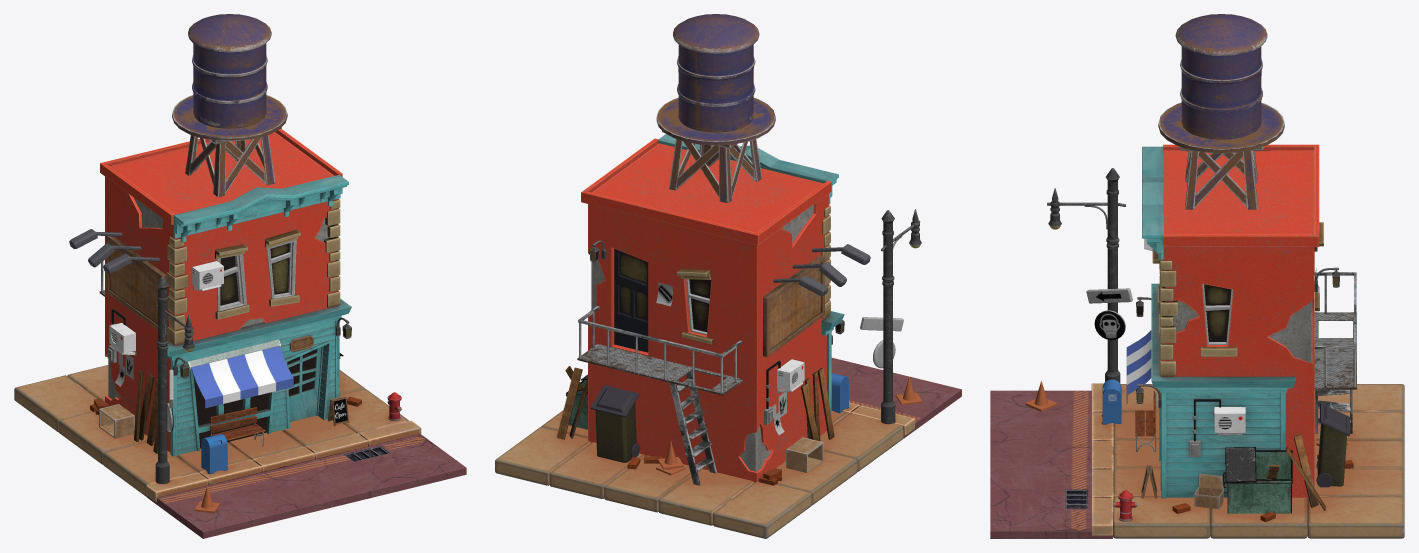
Rendered from cafe.glb.
3 views of the same model, side by side, from view 1: azimuth 30°, elevation 25°; view 2: azimuth 150°, elevation 25°; view 3: azimuth 270°, elevation 25° (orthographic). The views are drawn at different scales.
Parts seen in each view (by area): view 1: wall_03_low, ground_01_low, barell_low, ground_03_low, ground_02_low, wall_01_low, tent_low, roof_01_low, wall_02_low, sign_04_low, railing_02_low, streetlight_low (+17 smaller); view 2: wall_03_low, ground_03_low, wall_02_low, barell_low, roof_03_low, ground_01_low, sign_04_low, door_02_low, trashcan_02_low, streetlight_low, balcon_01_low, woodboards_low (+10 smaller); view 3: wall_03_low, ground_03_low, barell_low, ground_01_low, wall_01_low, trashcan_01_low, railing_02_low, roof_03_low, ground_02_low, streetlight_low, balcon_01_low, wall_02_low (+15 smaller).
Part boxes in pixels (left/top/right/bottom): wall_03_low: left=105, top=132, right=337, bottom=345; ground_01_low: left=147, top=434, right=466, bottom=538; barell_low: left=172, top=14, right=287, bottom=197; ground_03_low: left=14, top=365, right=408, bottom=496; ground_02_low: left=146, top=420, right=421, bottom=501; wall_01_low: left=177, top=321, right=335, bottom=455; tent_low: left=191, top=346, right=293, bottom=408; roof_01_low: left=173, top=175, right=348, bottom=238; wall_02_low: left=105, top=305, right=170, bottom=452; sign_04_low: left=106, top=236, right=166, bottom=329; railing_02_low: left=167, top=299, right=351, bottom=360; streetlight_low: left=155, top=276, right=194, bottom=483; wall_03_low: left=588, top=143, right=828, bottom=378; ground_03_low: left=495, top=410, right=903, bottom=538; wall_02_low: left=588, top=332, right=826, bottom=482; barell_low: left=656, top=14, right=775, bottom=203; roof_03_low: left=581, top=138, right=831, bottom=245; ground_01_low: left=831, top=357, right=961, bottom=438; sign_04_low: left=763, top=255, right=824, bottom=357; door_02_low: left=614, top=249, right=648, bottom=352; trashcan_02_low: left=590, top=385, right=639, bottom=462; streetlight_low: left=881, top=209, right=921, bottom=424; balcon_01_low: left=577, top=344, right=742, bottom=395; woodboards_low: left=556, top=366, right=834, bottom=441; wall_03_low: left=1162, top=150, right=1314, bottom=388; ground_03_low: left=1113, top=384, right=1404, bottom=538; barell_low: left=1158, top=14, right=1284, bottom=209; ground_01_low: left=990, top=390, right=1112, bottom=538; wall_01_low: left=1166, top=392, right=1280, bottom=497; trashcan_01_low: left=1222, top=447, right=1292, bottom=513; railing_02_low: left=1151, top=283, right=1295, bottom=392; roof_03_low: left=1163, top=144, right=1319, bottom=246; ground_02_low: left=1091, top=383, right=1113, bottom=535; streetlight_low: left=1047, top=168, right=1125, bottom=382; balcon_01_low: left=1314, top=312, right=1356, bottom=389; wall_02_low: left=1285, top=388, right=1314, bottom=499.
Size of the model in its own units: 6.09 by 8.9 by 7.44.
Materials: 4 (4 with a texture image).
